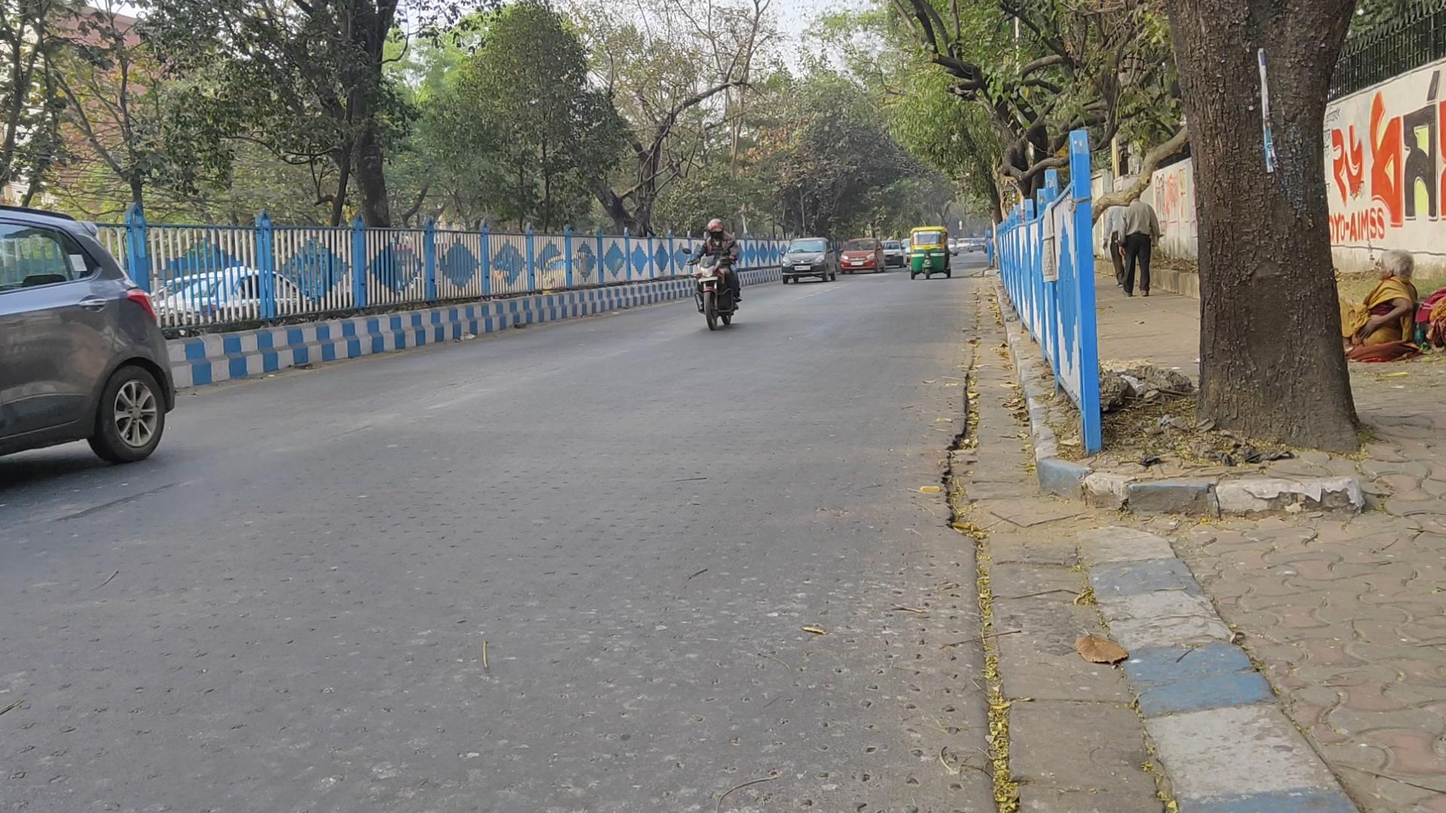Auto: (907, 225, 951, 281)
bike: (681, 218, 743, 330)
car: (2, 200, 175, 480), (779, 236, 837, 285), (839, 236, 886, 276), (883, 239, 908, 269)
